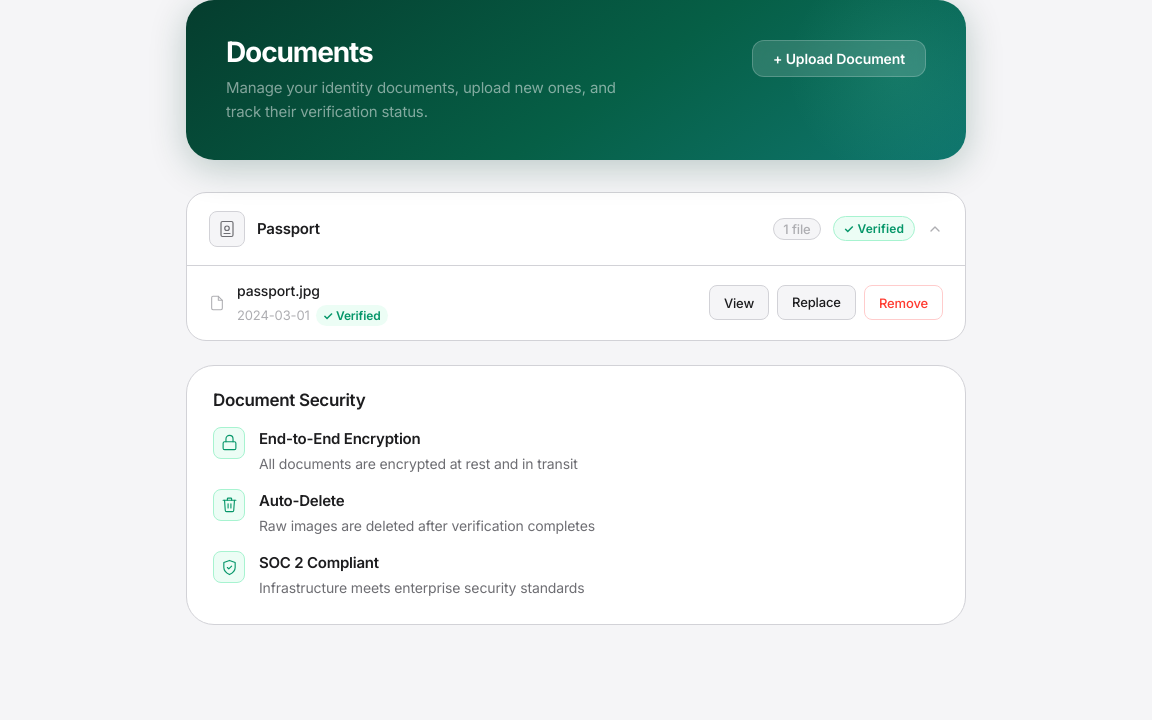
Test: Documents Page › removes group card when last file in group is deleted
Expected: the text "Passport" is shown, [257,219,320,238]
What coordinates should you click on to do the following:
click the button "Remove"
I would click on:
 (903, 303)
Its box is [864,286,943,320].
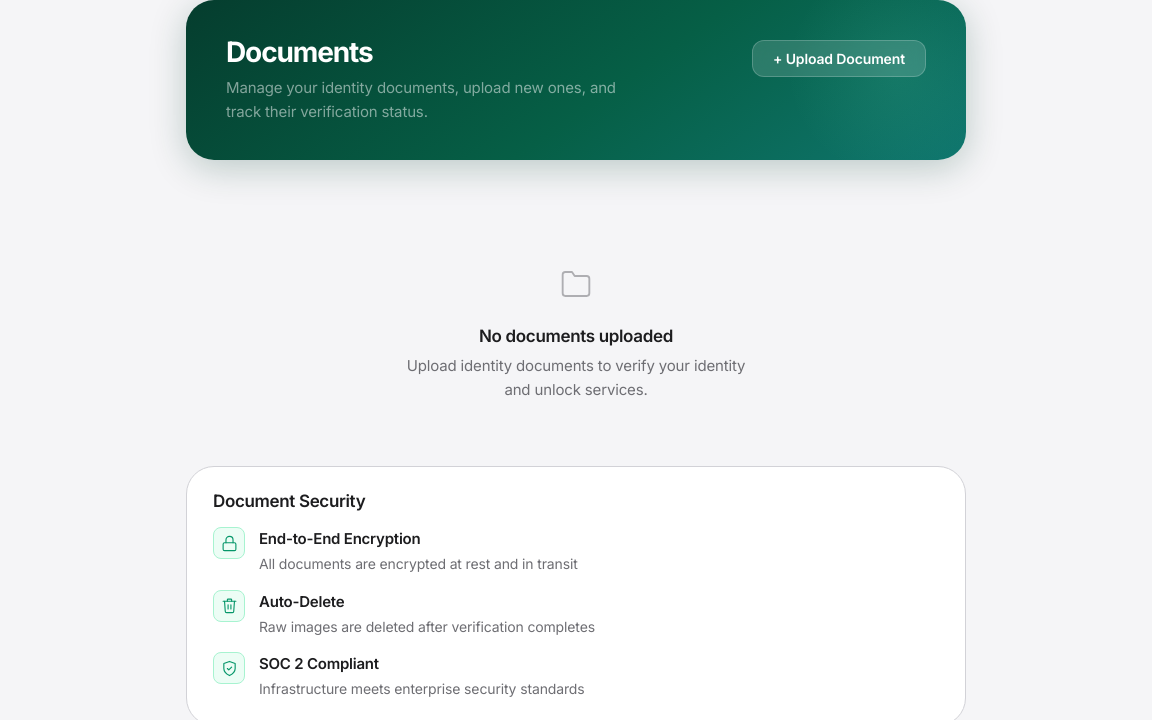
Now the button "Passport" is gone
